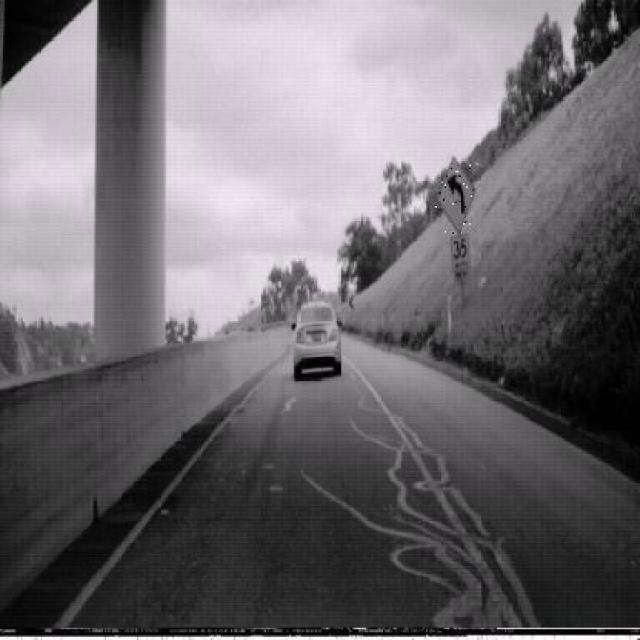curveLeft: (436, 154, 476, 235)
